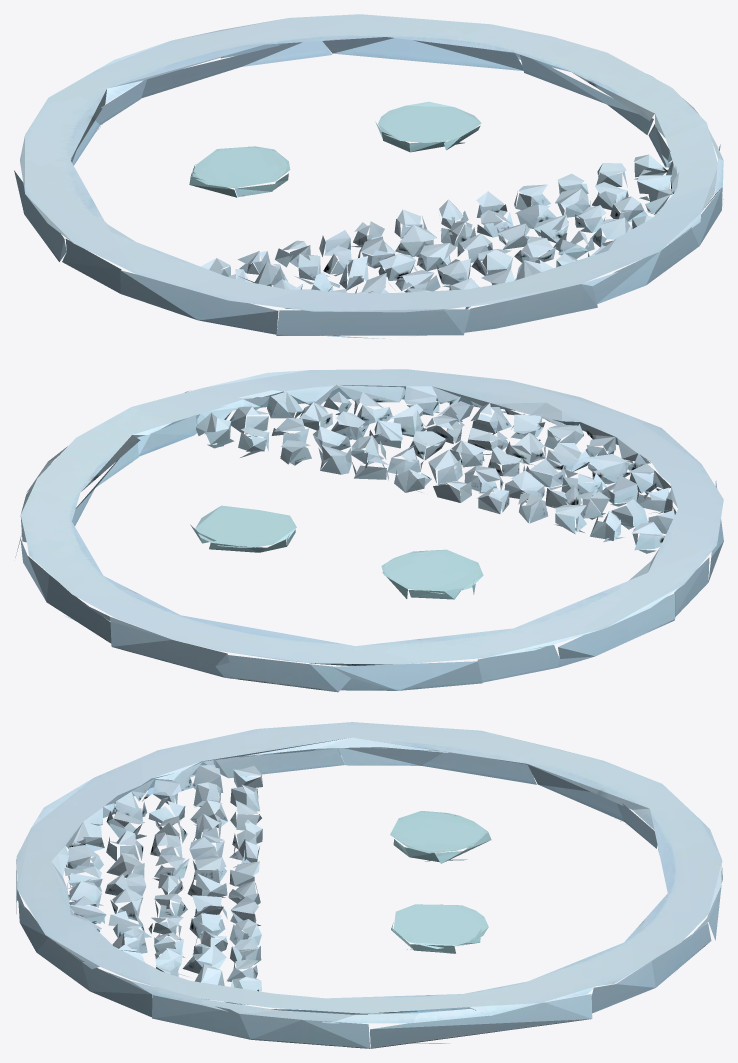
The picture shows the model from 3 angles, top to bottom: view 1: azimuth 30°, elevation 25°; view 2: azimuth 150°, elevation 25°; view 3: azimuth 270°, elevation 25°; orthographic projection.
Parts seen in each view (by area): view 1: geometry_0; view 2: geometry_0; view 3: geometry_0.
Part boxes in pixels (x1,y1,x2,y2): geometry_0: (14, 14, 723, 338); geometry_0: (15, 369, 723, 692); geometry_0: (16, 722, 722, 1048).
Size of the model in its own units: 1.02 by 0.0549 by 1.
Materials: 1 (1 with a texture image).
